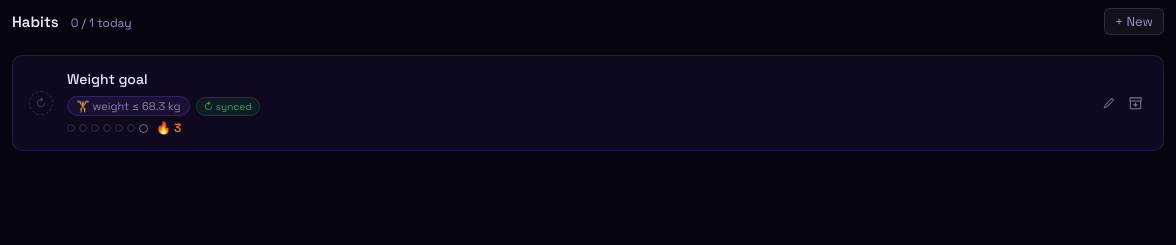
Test: weight-goal unit conversion in the inline edit form › shows the raw kg value unconverted when isImperial is false
Click the button named "Edit habit": (1108, 103) [1097, 92, 1120, 114]
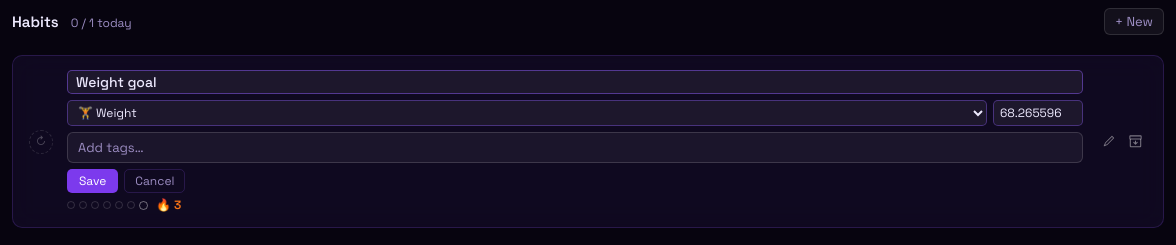
Result: the number field with class "habit-card-edit-goal" holds "68.265596" at [993, 100, 1083, 126]
